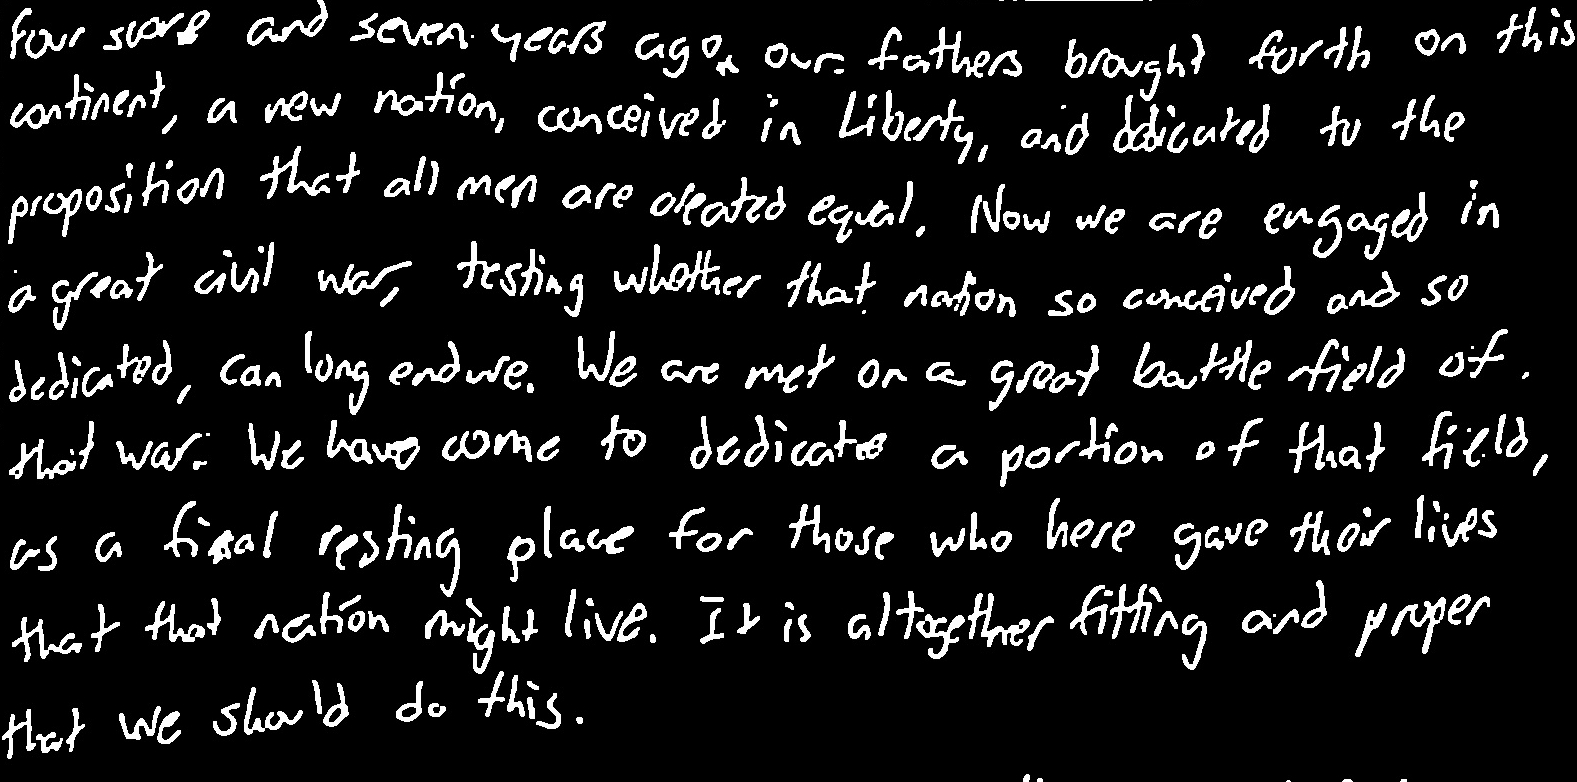Four score and seven years ago our fathers brought forth on this continent, a ne: (0, 0, 1577, 782)
